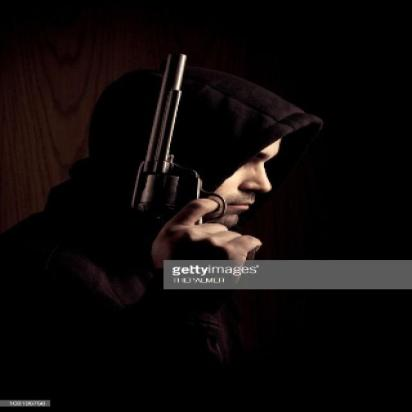Gun: (134, 44, 255, 259)
